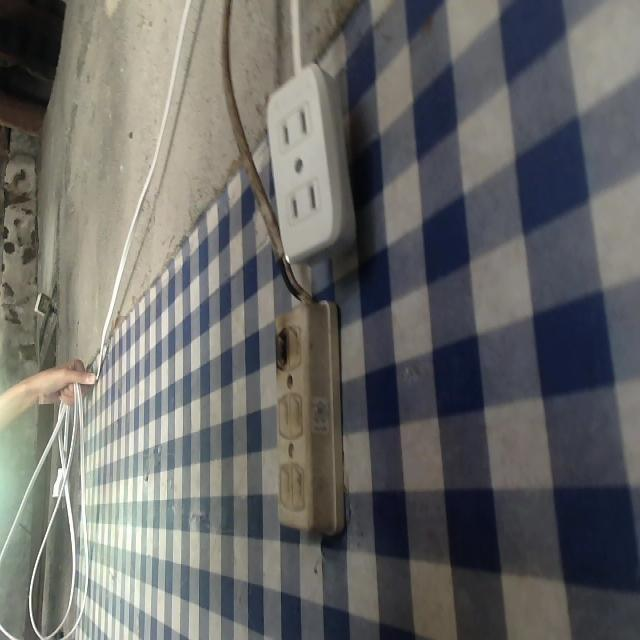-: (273, 320, 290, 371)
